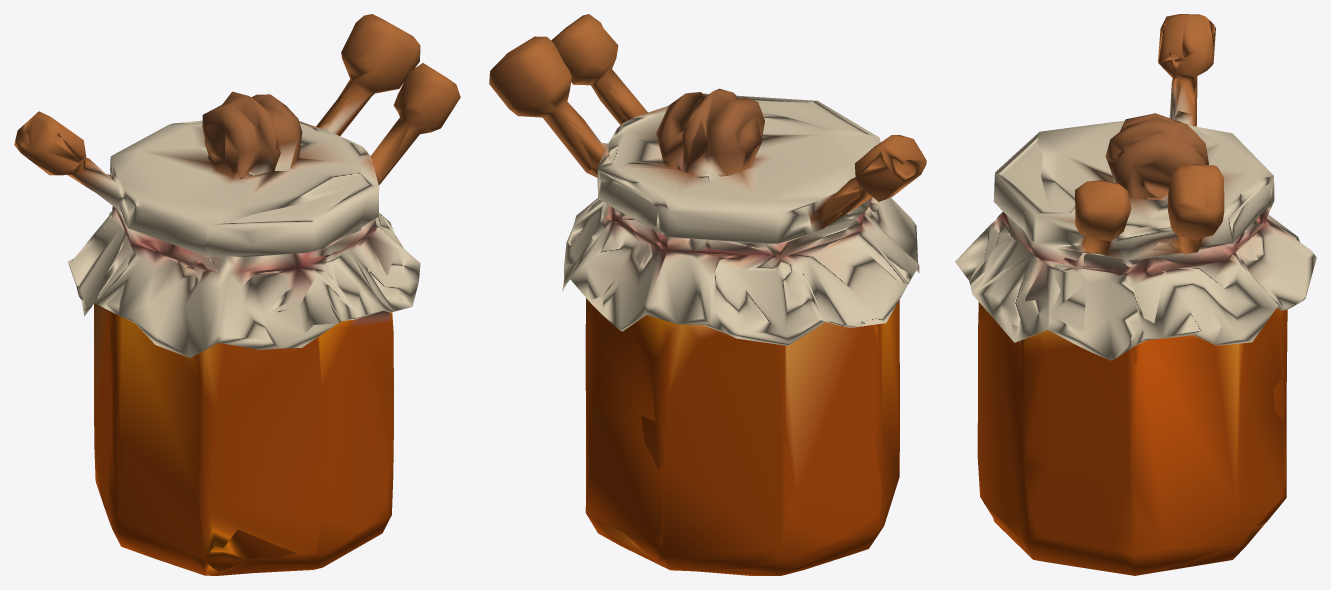
Rendered from gen3d-honey-jar-lod0.glb.
The picture shows the model from 3 angles, left to right: view 1: azimuth 30°, elevation 25°; view 2: azimuth 150°, elevation 25°; view 3: azimuth 270°, elevation 25°; orthographic projection. The views are drawn at different scales.
Visible parts, largest first — view 1: part_0; view 2: part_0; view 3: part_0.
Part boxes in pixels (x1,y1,x2,y2): part_0: (14,14,460,575); part_0: (489,14,926,575); part_0: (955,14,1316,575).
Bounding box in the file's own units: 0.9426 × 0.9995 × 0.7446.
